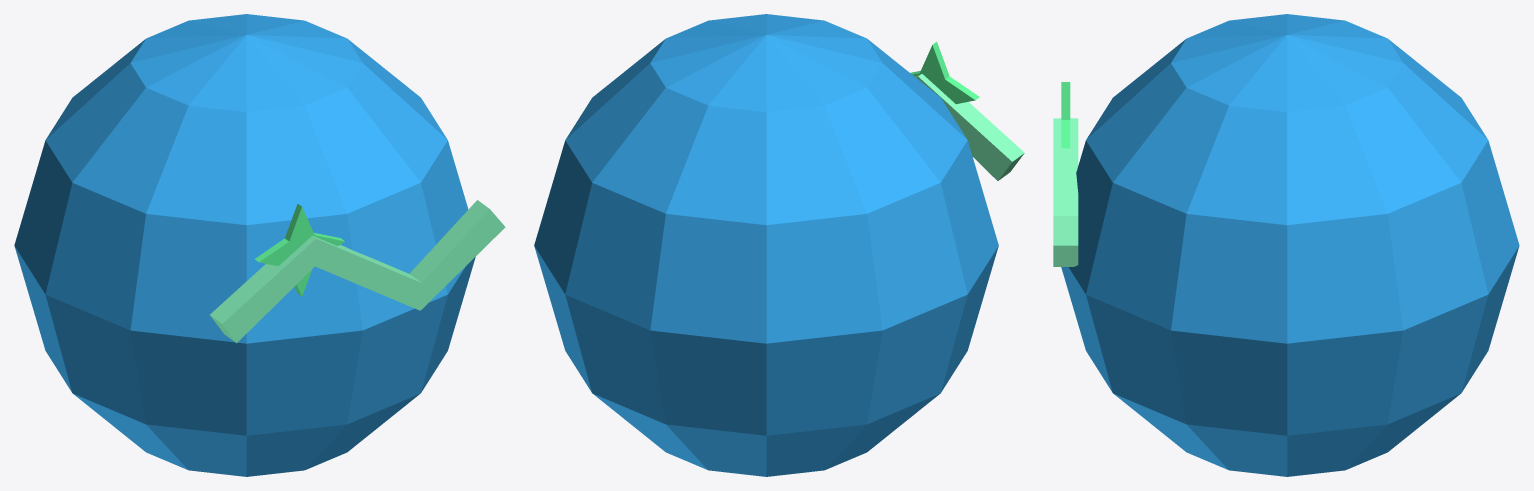
File: moonwater_pearl.obj
3 views of the same model, side by side, from view 1: azimuth 30°, elevation 25°; view 2: azimuth 150°, elevation 25°; view 3: azimuth 270°, elevation 25° (orthographic).
Visible parts, largest first — view 1: moonwater_core, moonwater_wave, moonwater_wave_edge, moonwater_light, moonwater_light_edge; view 2: moonwater_core, moonwater_wave_edge, moonwater_wave, moonwater_light; view 3: moonwater_core, moonwater_wave_edge, moonwater_light_edge.
Part boxes in pixels (x1,y1,x2,y2): moonwater_core: (14,14,475,476); moonwater_wave: (222,209,505,342); moonwater_wave_edge: (210,200,489,342); moonwater_light: (259,207,344,296); moonwater_light_edge: (255,204,344,296); moonwater_core: (534,14,998,476); moonwater_wave_edge: (915,74,1024,180); moonwater_wave: (916,76,1011,180); moonwater_light: (912,45,975,104); moonwater_core: (1061,14,1519,476); moonwater_wave_edge: (1053,118,1078,266); moonwater_light_edge: (1061,82,1070,148).
Bounding box in the file's own units: 0.84 × 0.84 × 0.8425.
